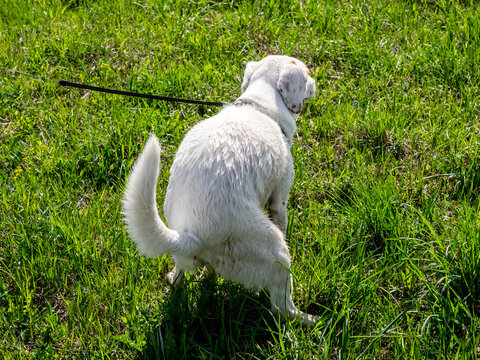dog_pooping: (117, 50, 334, 330)
